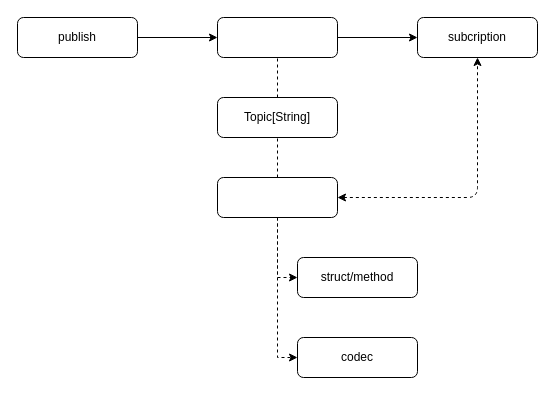
This 555x395 diagram has some shape labels left out. Each missing label, with the centre of its shape:
broker: the point at 277,37
Message: the point at 277,197
